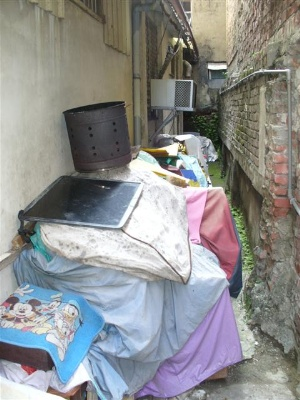bucket: (61, 100, 132, 173)
plastic_bag: (88, 269, 230, 396), (185, 186, 243, 293)
